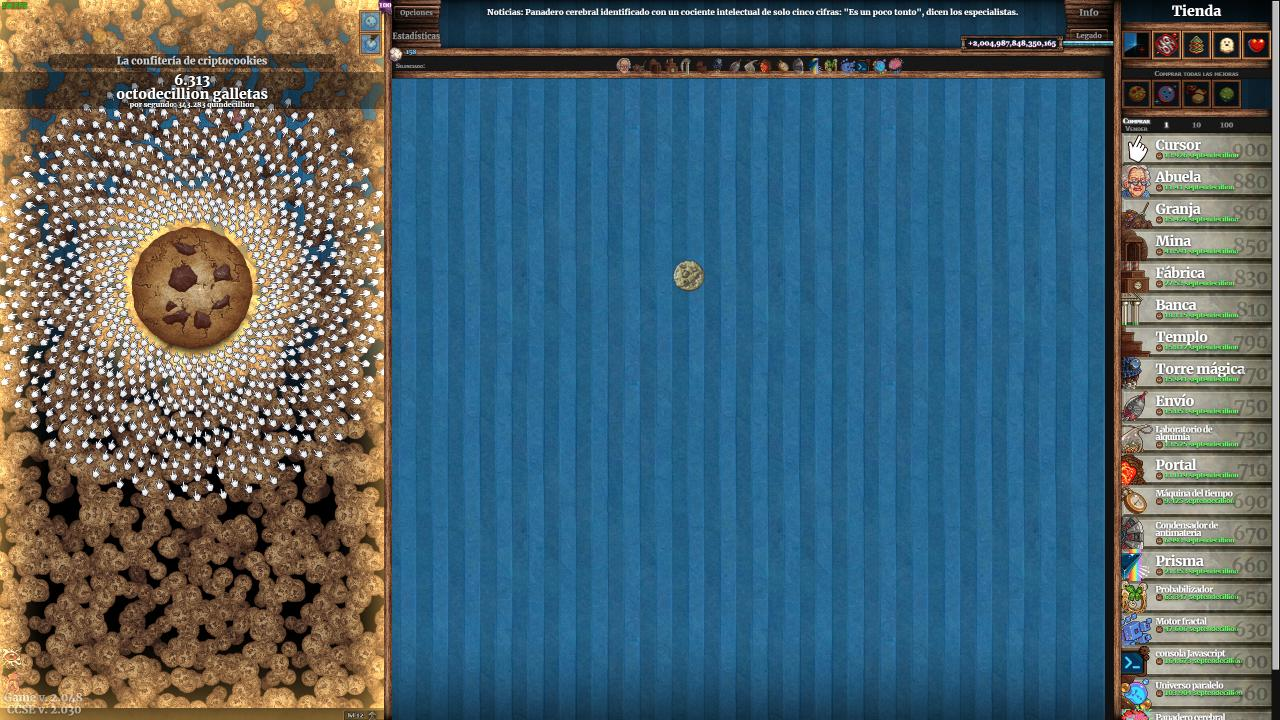GoldenCookie: (672, 258, 708, 293)
